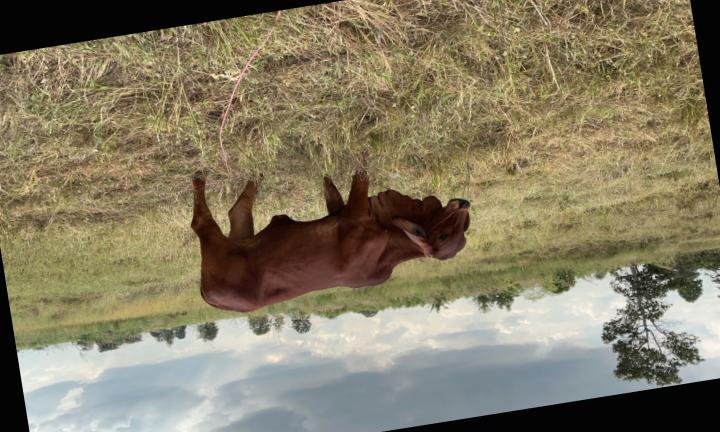Brahman: (191, 172, 469, 312)
